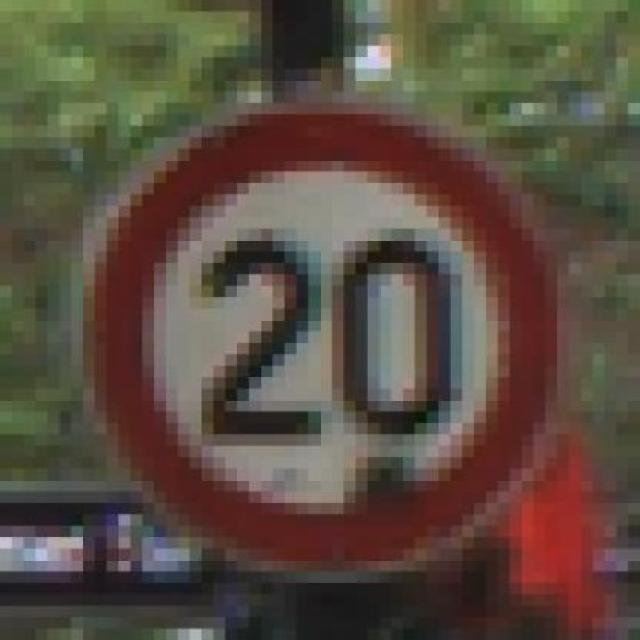forb_speed_over_20: (100, 99, 557, 572)
